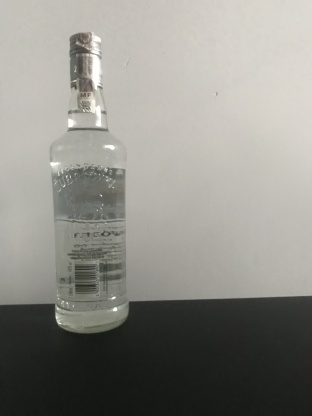nakretka: (67, 29, 104, 91)
